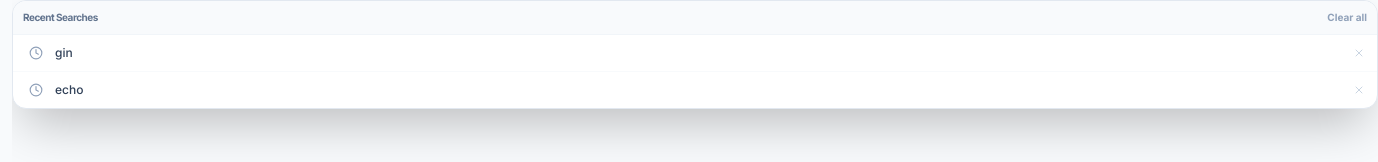
Test: SearchHistoryDropdown › removes a single item from history
Click the button named "Remove \"gin\" from search history" at point(1359, 53), box [1349,43,1369,63]
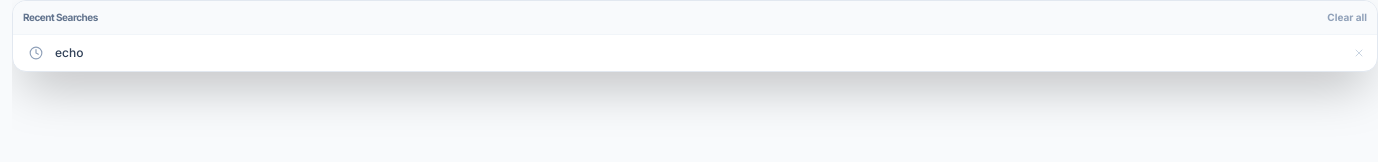
Result: the button "gin" is gone
Result: the text "echo" is shown at [55,45,84,61]
